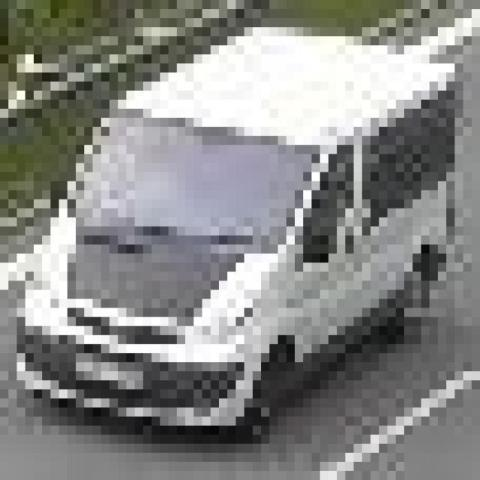van: (17, 27, 455, 426)
